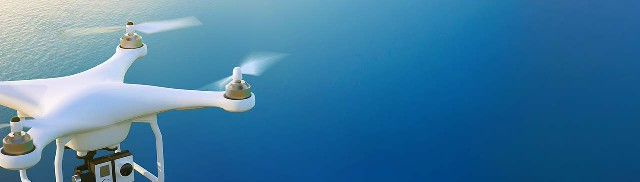maybay_khongnguoilai: (2, 18, 278, 182)
